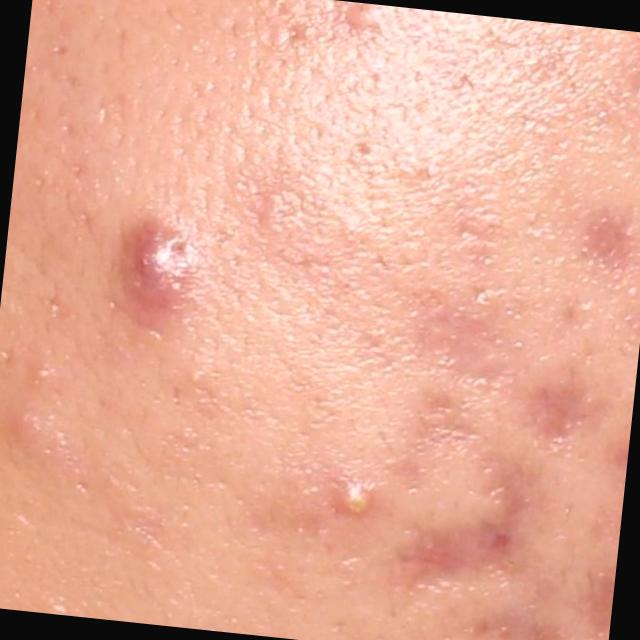nodule: (112, 212, 210, 330)
